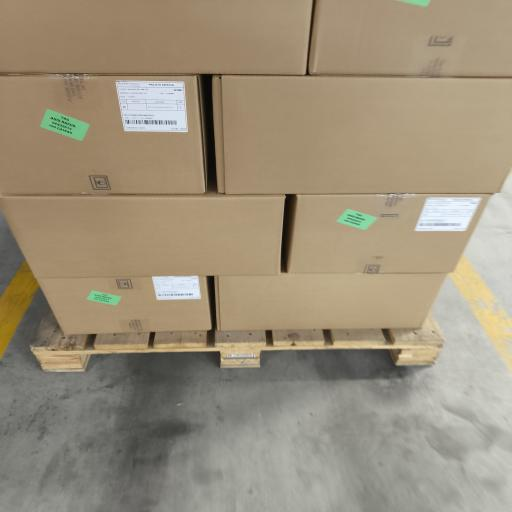pallet: (31, 311, 444, 371)
